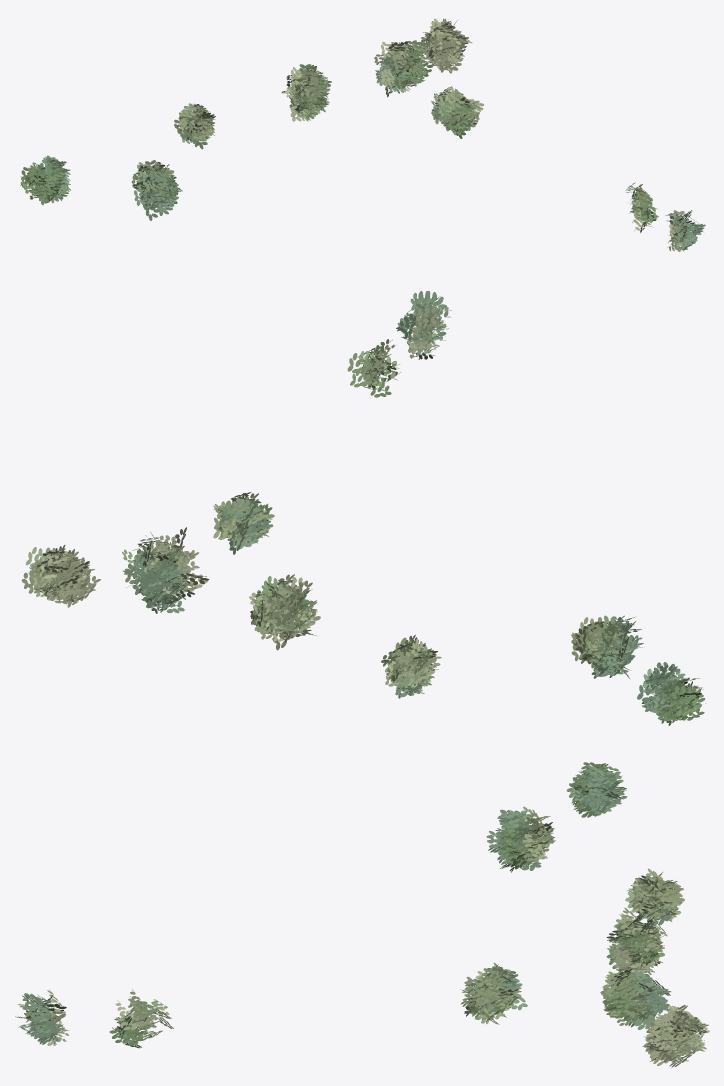
Rendered from campus-tree-0_-2-far-photo.glb.
3 views of the same model, one above another, from view 1: azimuth 30°, elevation 25°; view 2: azimuth 150°, elevation 25°; view 3: azimuth 270°, elevation 25° (orthographic). The views are drawn at different scales.
Parts seen in each view (by area): view 1: Campus leaf canopy; view 2: Campus leaf canopy; view 3: Campus leaf canopy.
Part boxes in pixels (left/top/right/bottom): Campus leaf canopy: left=20, top=18, right=705, bottom=251; Campus leaf canopy: left=21, top=291, right=705, bottom=725; Campus leaf canopy: left=15, top=762, right=709, bottom=1067.
Bounding box in the file's own units: 53.32 × 8.52 × 54.38.
1 material, 1 textured.
